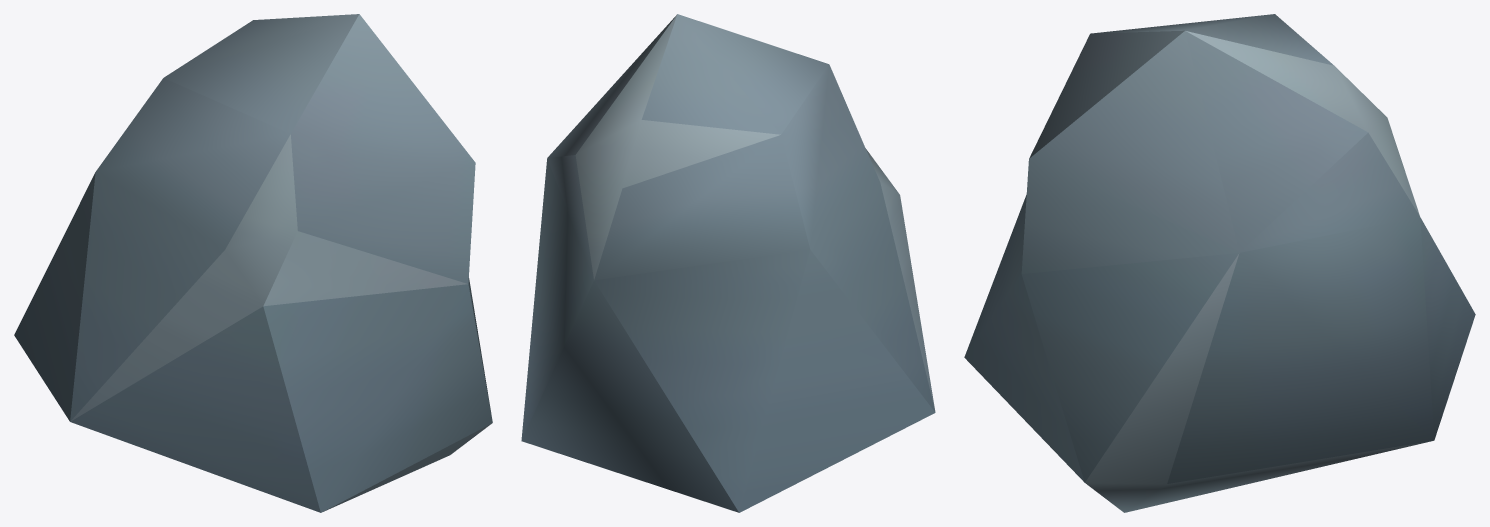
Rendered from iron_nugget_medium.glb.
3 renders of one model, left to right at view 1: azimuth 30°, elevation 25°; view 2: azimuth 150°, elevation 25°; view 3: azimuth 270°, elevation 25°, orthographic. The views are drawn at different scales.
Visible parts, largest first — view 1: Iron_Nugget_Medium; view 2: Iron_Nugget_Medium; view 3: Iron_Nugget_Medium.
Part boxes in pixels (x1=…): Iron_Nugget_Medium: x1=14, y1=14, x2=492, y2=512; Iron_Nugget_Medium: x1=521, y1=14, x2=935, y2=512; Iron_Nugget_Medium: x1=964, y1=14, x2=1475, y2=512.
Size of the model in its own units: 0.2589 by 0.2781 by 0.2819.
1 material, 1 textured.
